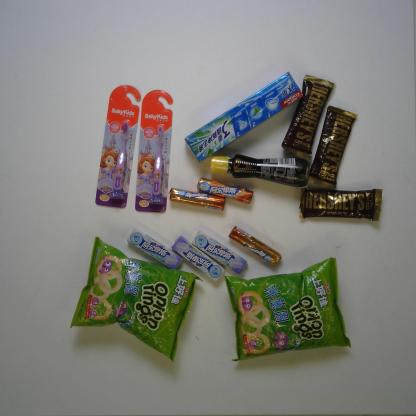Candy: (170, 234, 226, 282), (191, 231, 248, 276), (126, 227, 183, 270), (227, 226, 283, 266), (197, 176, 254, 204), (168, 187, 226, 211)
Chocolate: (280, 74, 336, 162), (307, 103, 358, 189), (297, 187, 383, 222)
Personal Hygiene: (184, 72, 304, 163), (94, 85, 141, 209), (134, 89, 174, 214)
Puffed Food: (69, 237, 203, 364), (223, 257, 352, 362)
Seasoner: (209, 152, 310, 188)
